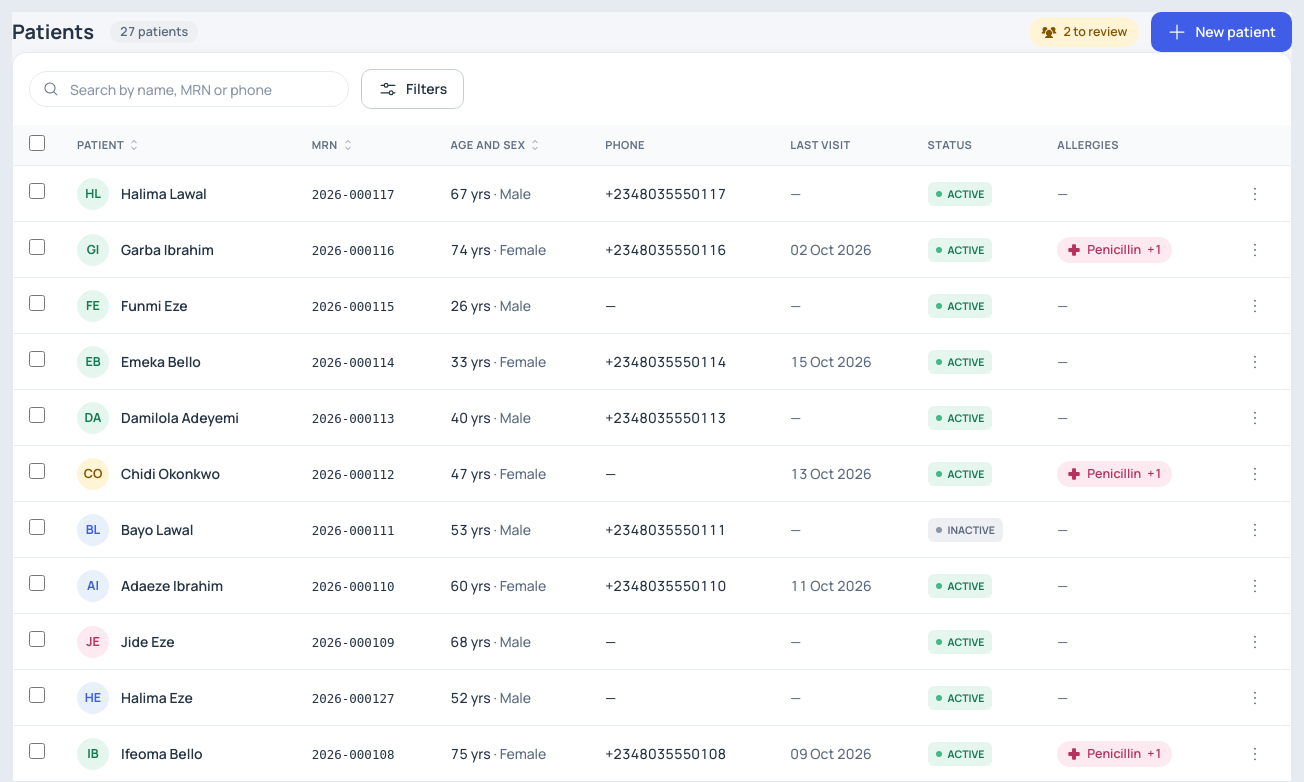
Test: patients register (mock layer) › selects rows, with select-all and a clear button
This screenshot has width=1304, height=782.
Step 1. Click the checkbox named "Select all rows on this page" → (37, 143), box top-left (29, 135), bottom-right (45, 151)
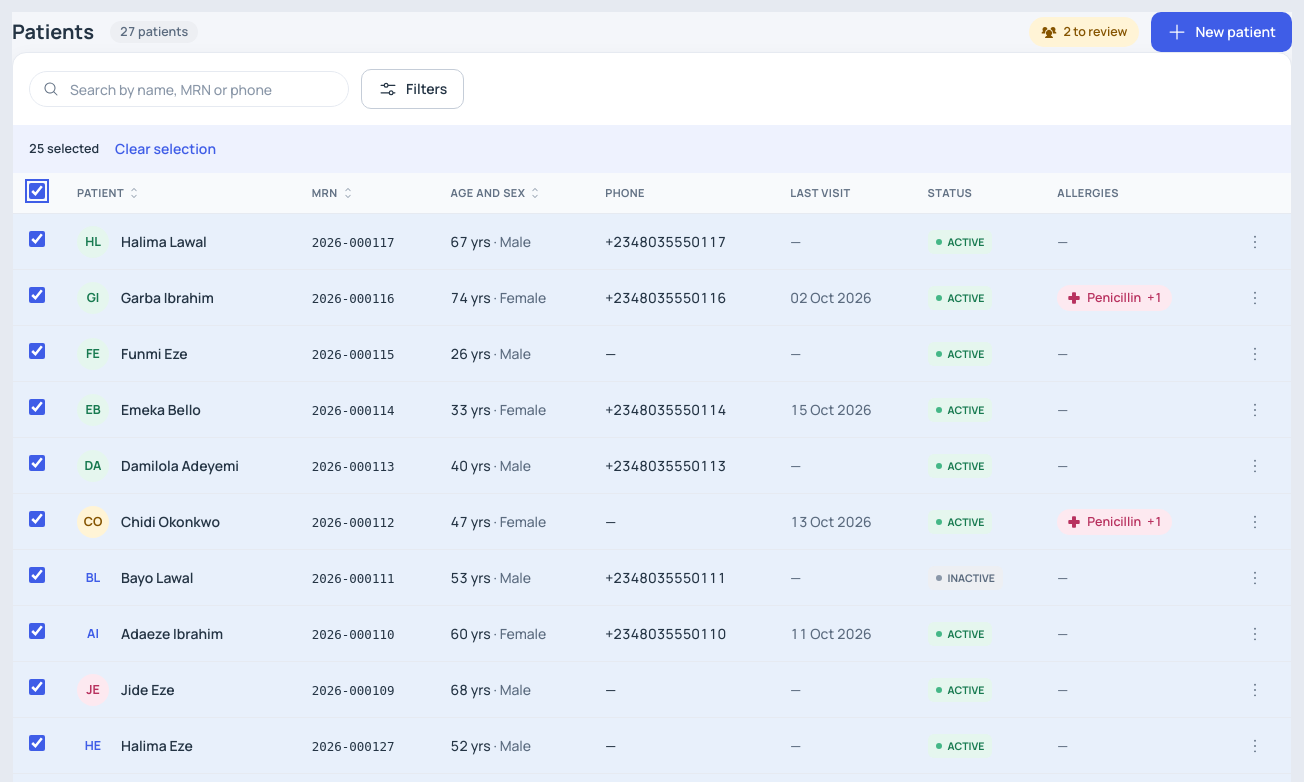
Result: the text "25 selected" is shown at top-left (29, 140), bottom-right (99, 158)
Step 2. Click the button "Clear selection" → (166, 149), box top-left (111, 133), bottom-right (220, 165)
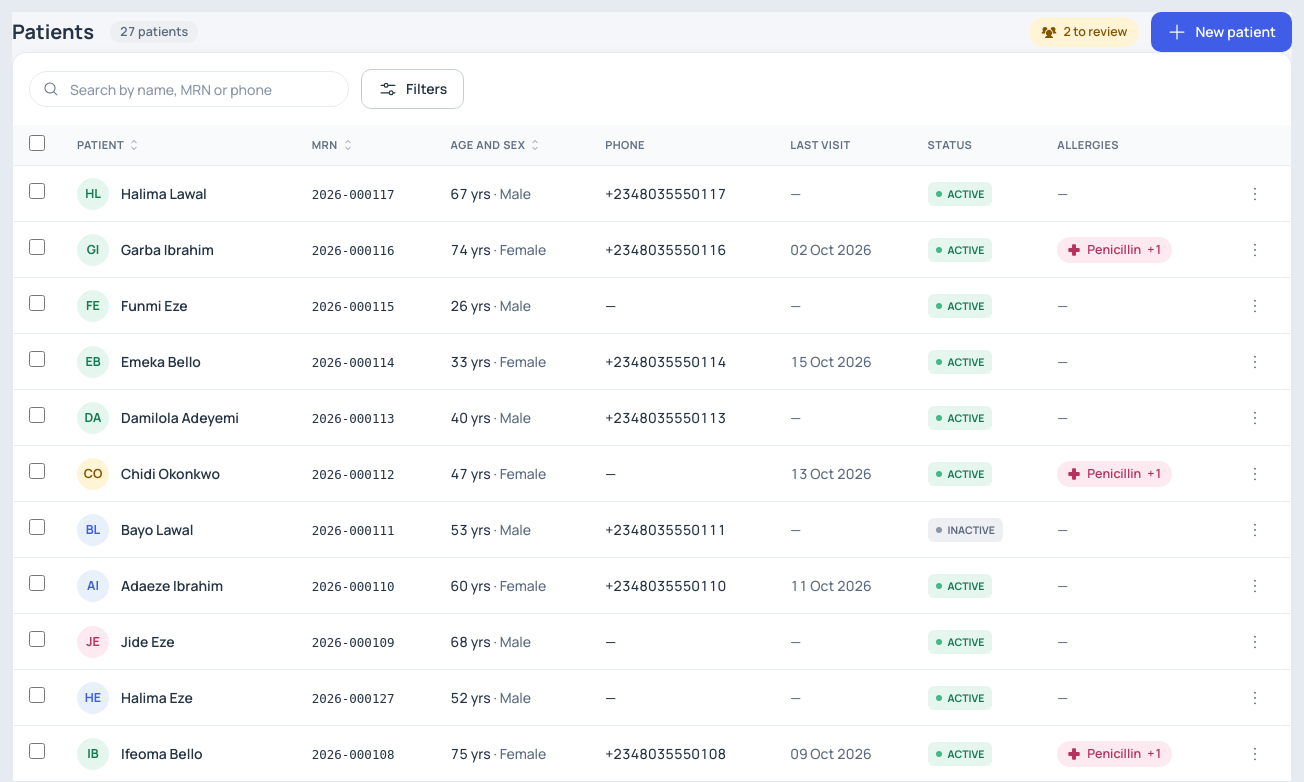
Result: the text "selected" is gone
